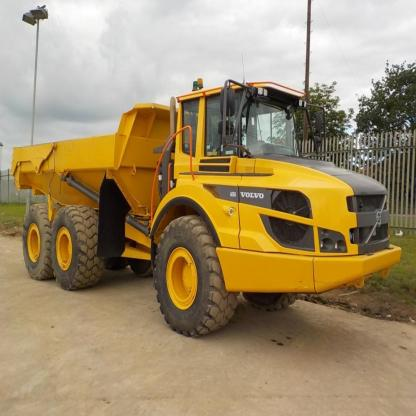dump_truck: (12, 78, 400, 338)
